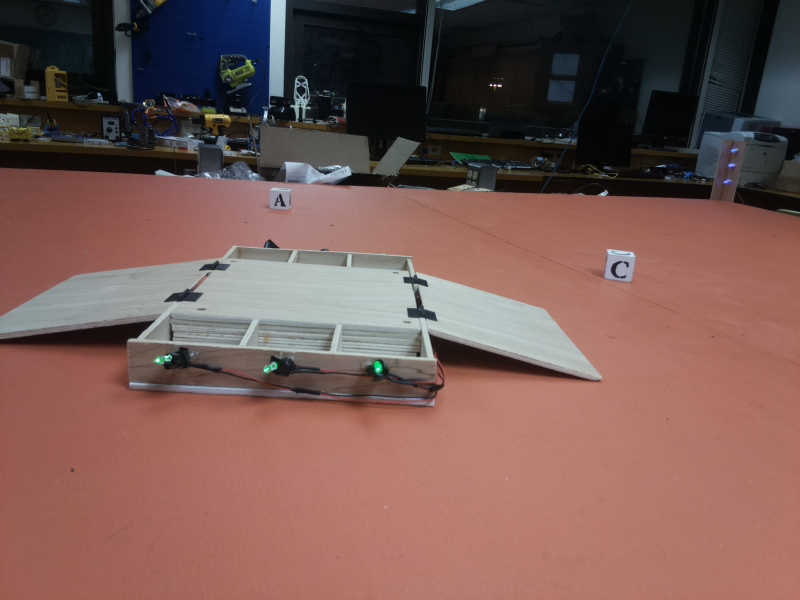blockA: (271, 189, 299, 211)
blockC: (601, 248, 637, 286)
corner: (707, 141, 745, 202)
side: (127, 315, 444, 416)
slope: (418, 266, 606, 387), (1, 258, 218, 348)
